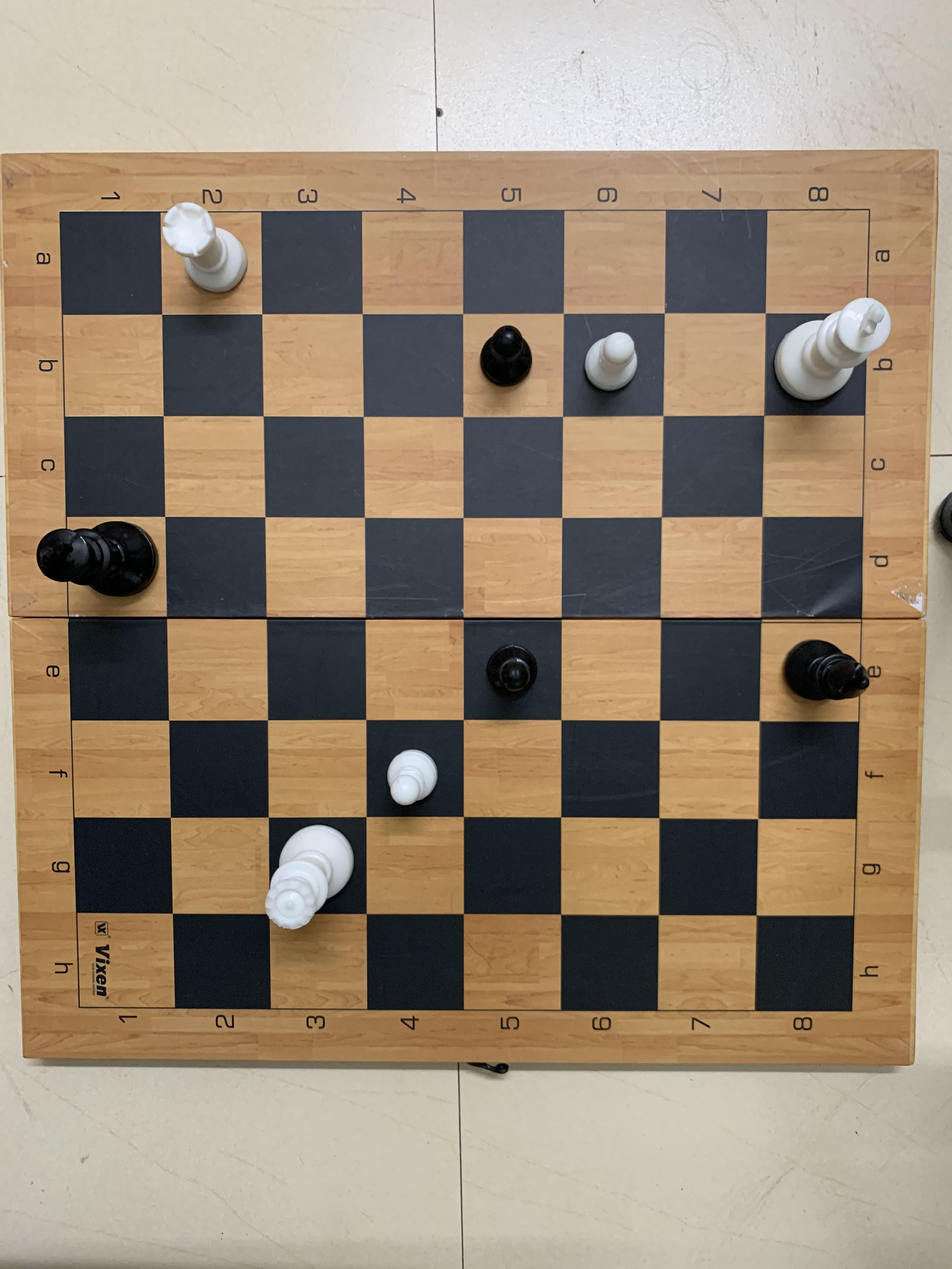black_bishop: (760, 619, 895, 717)
black_king: (28, 509, 170, 612)
black_pawn: (461, 313, 570, 409), (461, 631, 552, 708)
white_king: (765, 288, 896, 404)
white_pawn: (368, 726, 462, 815), (571, 318, 658, 399)
white_queen: (255, 820, 354, 936)
white_rook: (148, 193, 268, 310)
